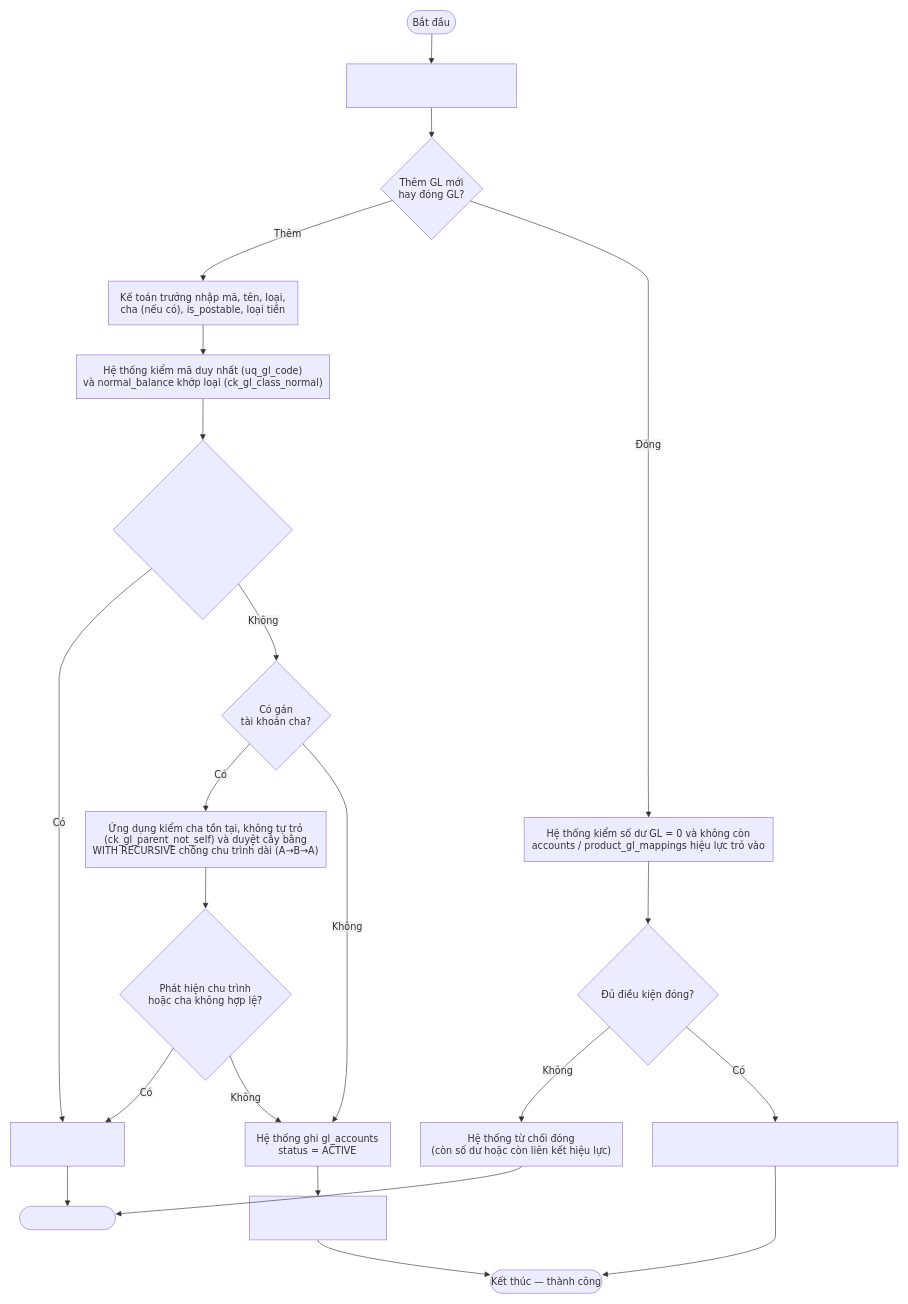
Some shapes in this 908 by 1304 pixel diagram are drawn without their labels. The shapes that lost their labels are listed below. From the top down, each one's box as (x1, y1, x2, y2) in pixels, then its label:
(346, 63, 516, 108): Kế toán trưởng (ADMIN) chọn thao tác trên gl_accounts
(112, 440, 292, 620): Mã trùng hoặc normal_balance sai loại?
(10, 1122, 124, 1166): Hệ thống từ chối, báo lỗi validate
(652, 1122, 898, 1166): Hệ thống đặt status = CLOSED (GL CLOSED không nhận bút toán mới), ghi audit
(19, 1206, 116, 1230): Kết thúc — từ chối
(249, 1196, 387, 1240): Hệ thống ghi audit (người tạo, dữ liệu GL)
